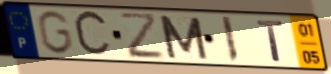C: (71, 8, 113, 60)
G: (35, 9, 75, 56)
I: (220, 15, 241, 65)
M: (156, 14, 211, 62)
T: (254, 19, 287, 64)
Z: (117, 12, 168, 61)
